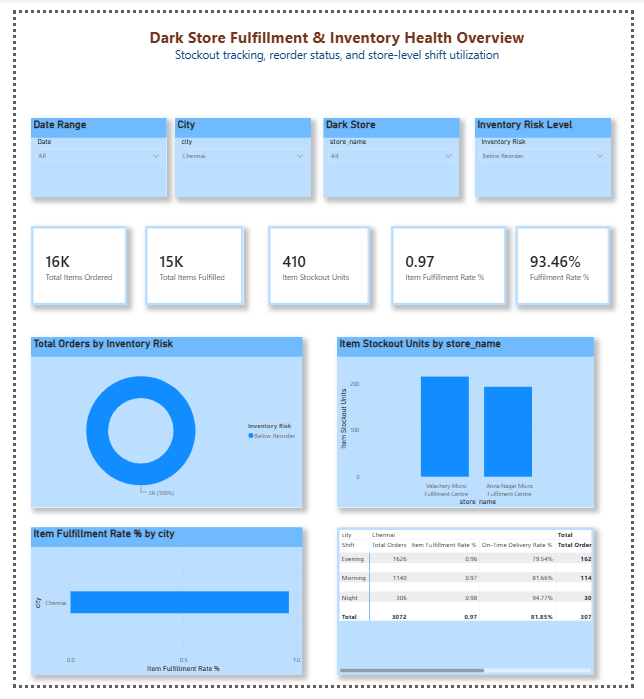

Layout of this report page (visuals, bound fields, positions):
{"tool":"powerbi","page":{"name":"Inventory & Dark Store Operations","canvas":[1280,1400],"ordinal":2},"visuals":[{"type":"textbox","box":[255,22.5,825,95],"z":0},{"type":"slicer","title":"Date Range","fields":{"Values":["Dim_Date.Date"]},"box":[32.5,220,282.5,165],"z":1000},{"type":"slicer","title":"City","fields":{"Values":["stores.city"]},"box":[332.5,220,283,165],"z":2000},{"type":"slicer","title":"Dark Store","fields":{"Values":["stores.store_name"]},"box":[640,220,283,165],"z":3000},{"type":"slicer","title":"Inventory Risk Level","fields":{"Values":["inventory_weekly.Inventory Risk"]},"box":[955,220,283,165],"z":4000},{"type":"cardVisual","fields":{"Data":["_Measures.Total Items Ordered"]},"box":[32.5,442.5,200,165],"z":5000},{"type":"cardVisual","fields":{"Data":["_Measures.Total Items Fulfilled"]},"box":[270,442.5,205,165],"z":6000},{"type":"cardVisual","fields":{"Data":["_Measures.Item Stockout Units"]},"box":[525,442.5,212.5,165],"z":7000},{"type":"cardVisual","fields":{"Data":["_Measures.Item Fulfillment Rate %"]},"box":[782.5,442.5,240,165],"z":8000},{"type":"cardVisual","fields":{"Data":["_Measures.Fulfilment Rate %"]},"box":[1040,442.5,197.5,165],"z":9000},{"type":"donutChart","fields":{"Category":["inventory_weekly.Inventory Risk"],"Y":["_Measures.Total Orders"]},"box":[32.5,675,565,355],"z":10000},{"type":"clusteredColumnChart","fields":{"Category":["stores.store_name"],"Y":["_Measures.Item Stockout Units"]},"box":[667.5,675,535,355],"z":11000},{"type":"pivotTable","fields":{"Rows":["Dim_Shift.Shift"],"Columns":["stores.city"],"Values":["_Measures.Total Orders","_Measures.Item Fulfillment Rate %","_Measures.On-Time Delivery Rate %"]},"box":[667.5,1072.5,535,307.5],"z":12000},{"type":"barChart","fields":{"Category":["stores.city"],"Y":["_Measures.Item Fulfillment Rate %"]},"box":[32.5,1072.5,565,307.5],"z":13000}]}

Visuals, with their boxes in screenshot pixels (x1, y1, x2, y2), scaled from the page's 1280x1400 canvas onto the 644x699 screenshot:
textbox: [x1=128, y1=11, x2=543, y2=59]
"Date Range" slicer: [x1=16, y1=110, x2=158, y2=192]
"City" slicer: [x1=167, y1=110, x2=310, y2=192]
"Dark Store" slicer: [x1=322, y1=110, x2=464, y2=192]
"Inventory Risk Level" slicer: [x1=480, y1=110, x2=623, y2=192]
cardVisual - _Measures.Total Items Ordered: [x1=16, y1=221, x2=117, y2=303]
cardVisual - _Measures.Total Items Fulfilled: [x1=136, y1=221, x2=239, y2=303]
cardVisual - _Measures.Item Stockout Units: [x1=264, y1=221, x2=371, y2=303]
cardVisual - _Measures.Item Fulfillment Rate %: [x1=394, y1=221, x2=514, y2=303]
cardVisual - _Measures.Fulfilment Rate %: [x1=523, y1=221, x2=623, y2=303]
donutChart - inventory_weekly.Inventory Risk x _Measures.Total Orders: [x1=16, y1=337, x2=301, y2=514]
clusteredColumnChart - stores.store_name x _Measures.Item Stockout Units: [x1=336, y1=337, x2=605, y2=514]
pivotTable - Dim_Shift.Shift x stores.city: [x1=336, y1=535, x2=605, y2=689]
barChart - stores.city x _Measures.Item Fulfillment Rate %: [x1=16, y1=535, x2=301, y2=689]
